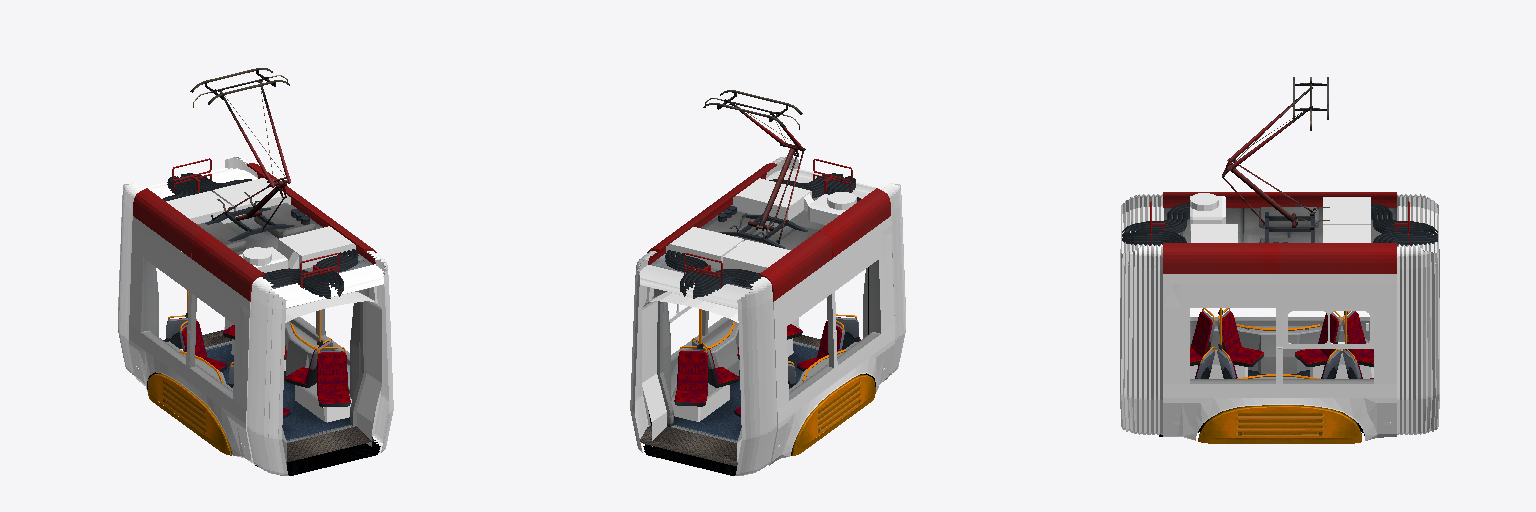
3 renders of one model, left to right at view 1: azimuth 30°, elevation 25°; view 2: azimuth 150°, elevation 25°; view 3: azimuth 270°, elevation 25°, orthographic.
Visible parts, largest first — view 1: EXT, INT; view 2: EXT, INT; view 3: EXT, INT.
Part boxes in pixels (left/top/right/bottom): EXT: left=118, top=68, right=393, bottom=475; INT: left=141, top=258, right=381, bottom=464; EXT: left=630, top=90, right=905, bottom=475; INT: left=640, top=260, right=880, bottom=465; EXT: left=1120, top=77, right=1439, bottom=443; INT: left=1190, top=308, right=1431, bottom=423.
Bounding box in the file's own units: 2.66 × 5.83 × 5.17.
Materials: 44 (20 with a texture image).